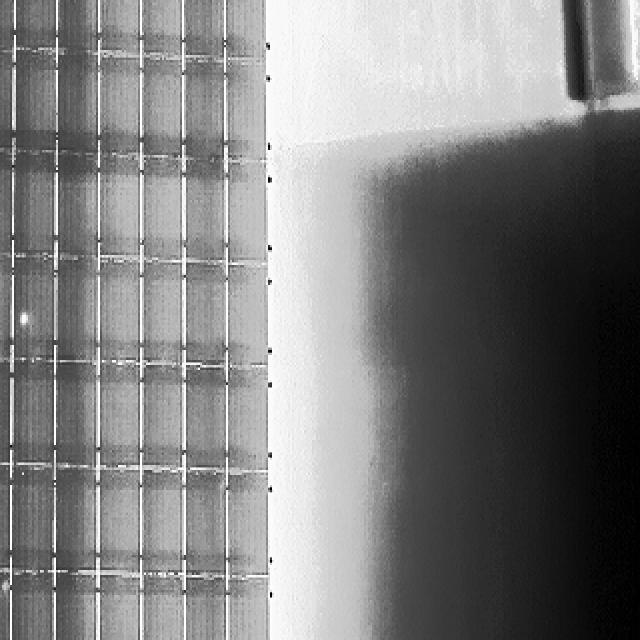Hotspots: (18, 304, 35, 330)
PV-modules: (8, 469, 54, 576), (223, 475, 269, 582), (93, 151, 139, 258), (91, 51, 138, 154), (91, 464, 136, 571), (55, 154, 100, 259), (13, 358, 57, 465), (93, 365, 137, 472), (15, 49, 60, 153), (138, 470, 182, 576), (221, 64, 267, 165), (56, 471, 99, 579), (224, 369, 267, 477), (55, 363, 99, 468), (138, 366, 182, 471), (138, 158, 182, 263), (222, 156, 266, 261), (14, 155, 58, 259), (53, 257, 97, 361), (184, 160, 228, 264), (94, 258, 138, 362), (187, 366, 230, 472), (138, 261, 182, 364), (186, 475, 228, 582), (55, 52, 98, 154), (15, 256, 57, 360), (229, 267, 271, 370), (138, 58, 181, 158), (186, 262, 226, 368), (184, 64, 227, 162), (15, 0, 94, 51), (8, 572, 54, 640), (92, 570, 136, 640), (54, 572, 98, 640), (138, 575, 182, 640), (228, 575, 272, 640), (186, 572, 228, 640), (226, 0, 272, 60), (182, 0, 226, 60), (136, 0, 180, 58), (54, 0, 97, 54), (100, 0, 142, 53), (12, 0, 56, 49), (0, 42, 10, 148), (0, 252, 8, 360), (0, 148, 8, 250), (0, 570, 10, 640), (0, 360, 6, 468), (0, 0, 14, 45), (0, 460, 4, 568)
